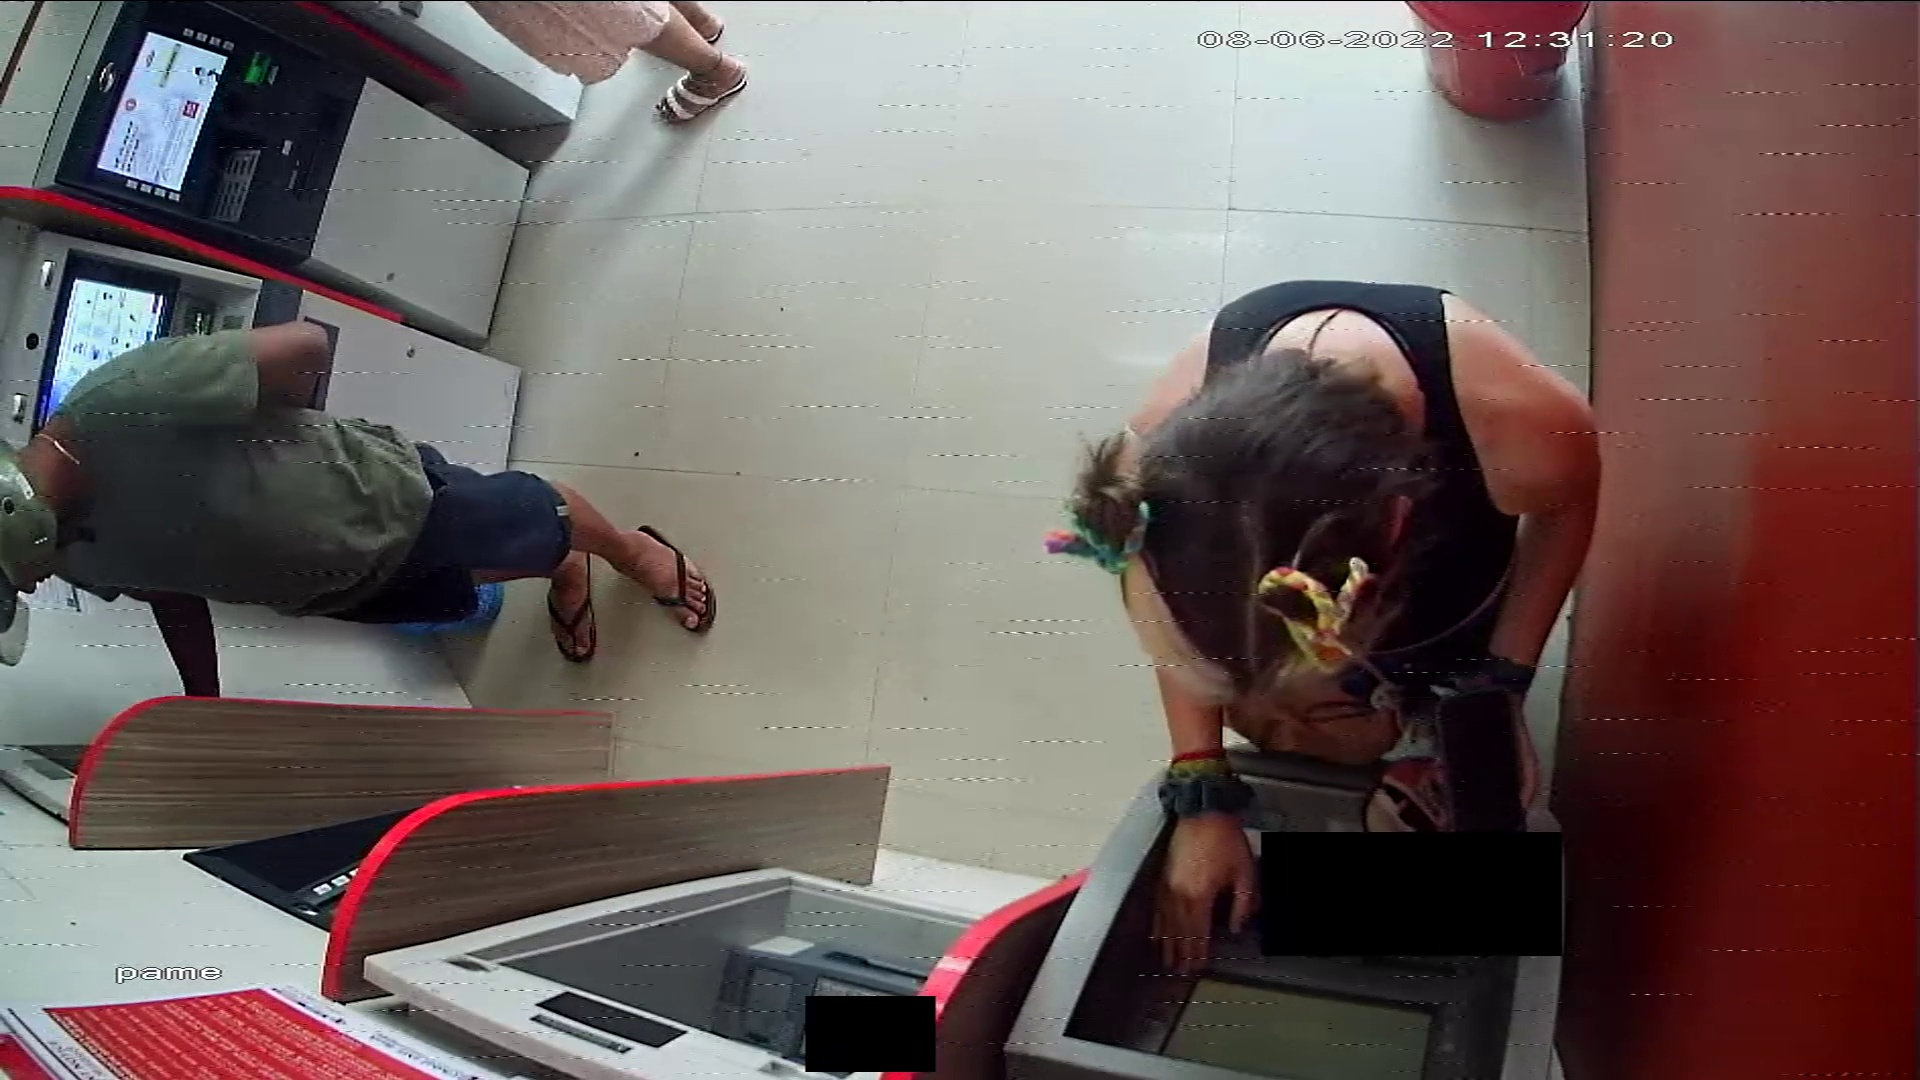helmet: (1, 435, 62, 667)
person: (1096, 281, 1601, 978), (1, 319, 719, 699)
phone: (1435, 694, 1528, 840)
